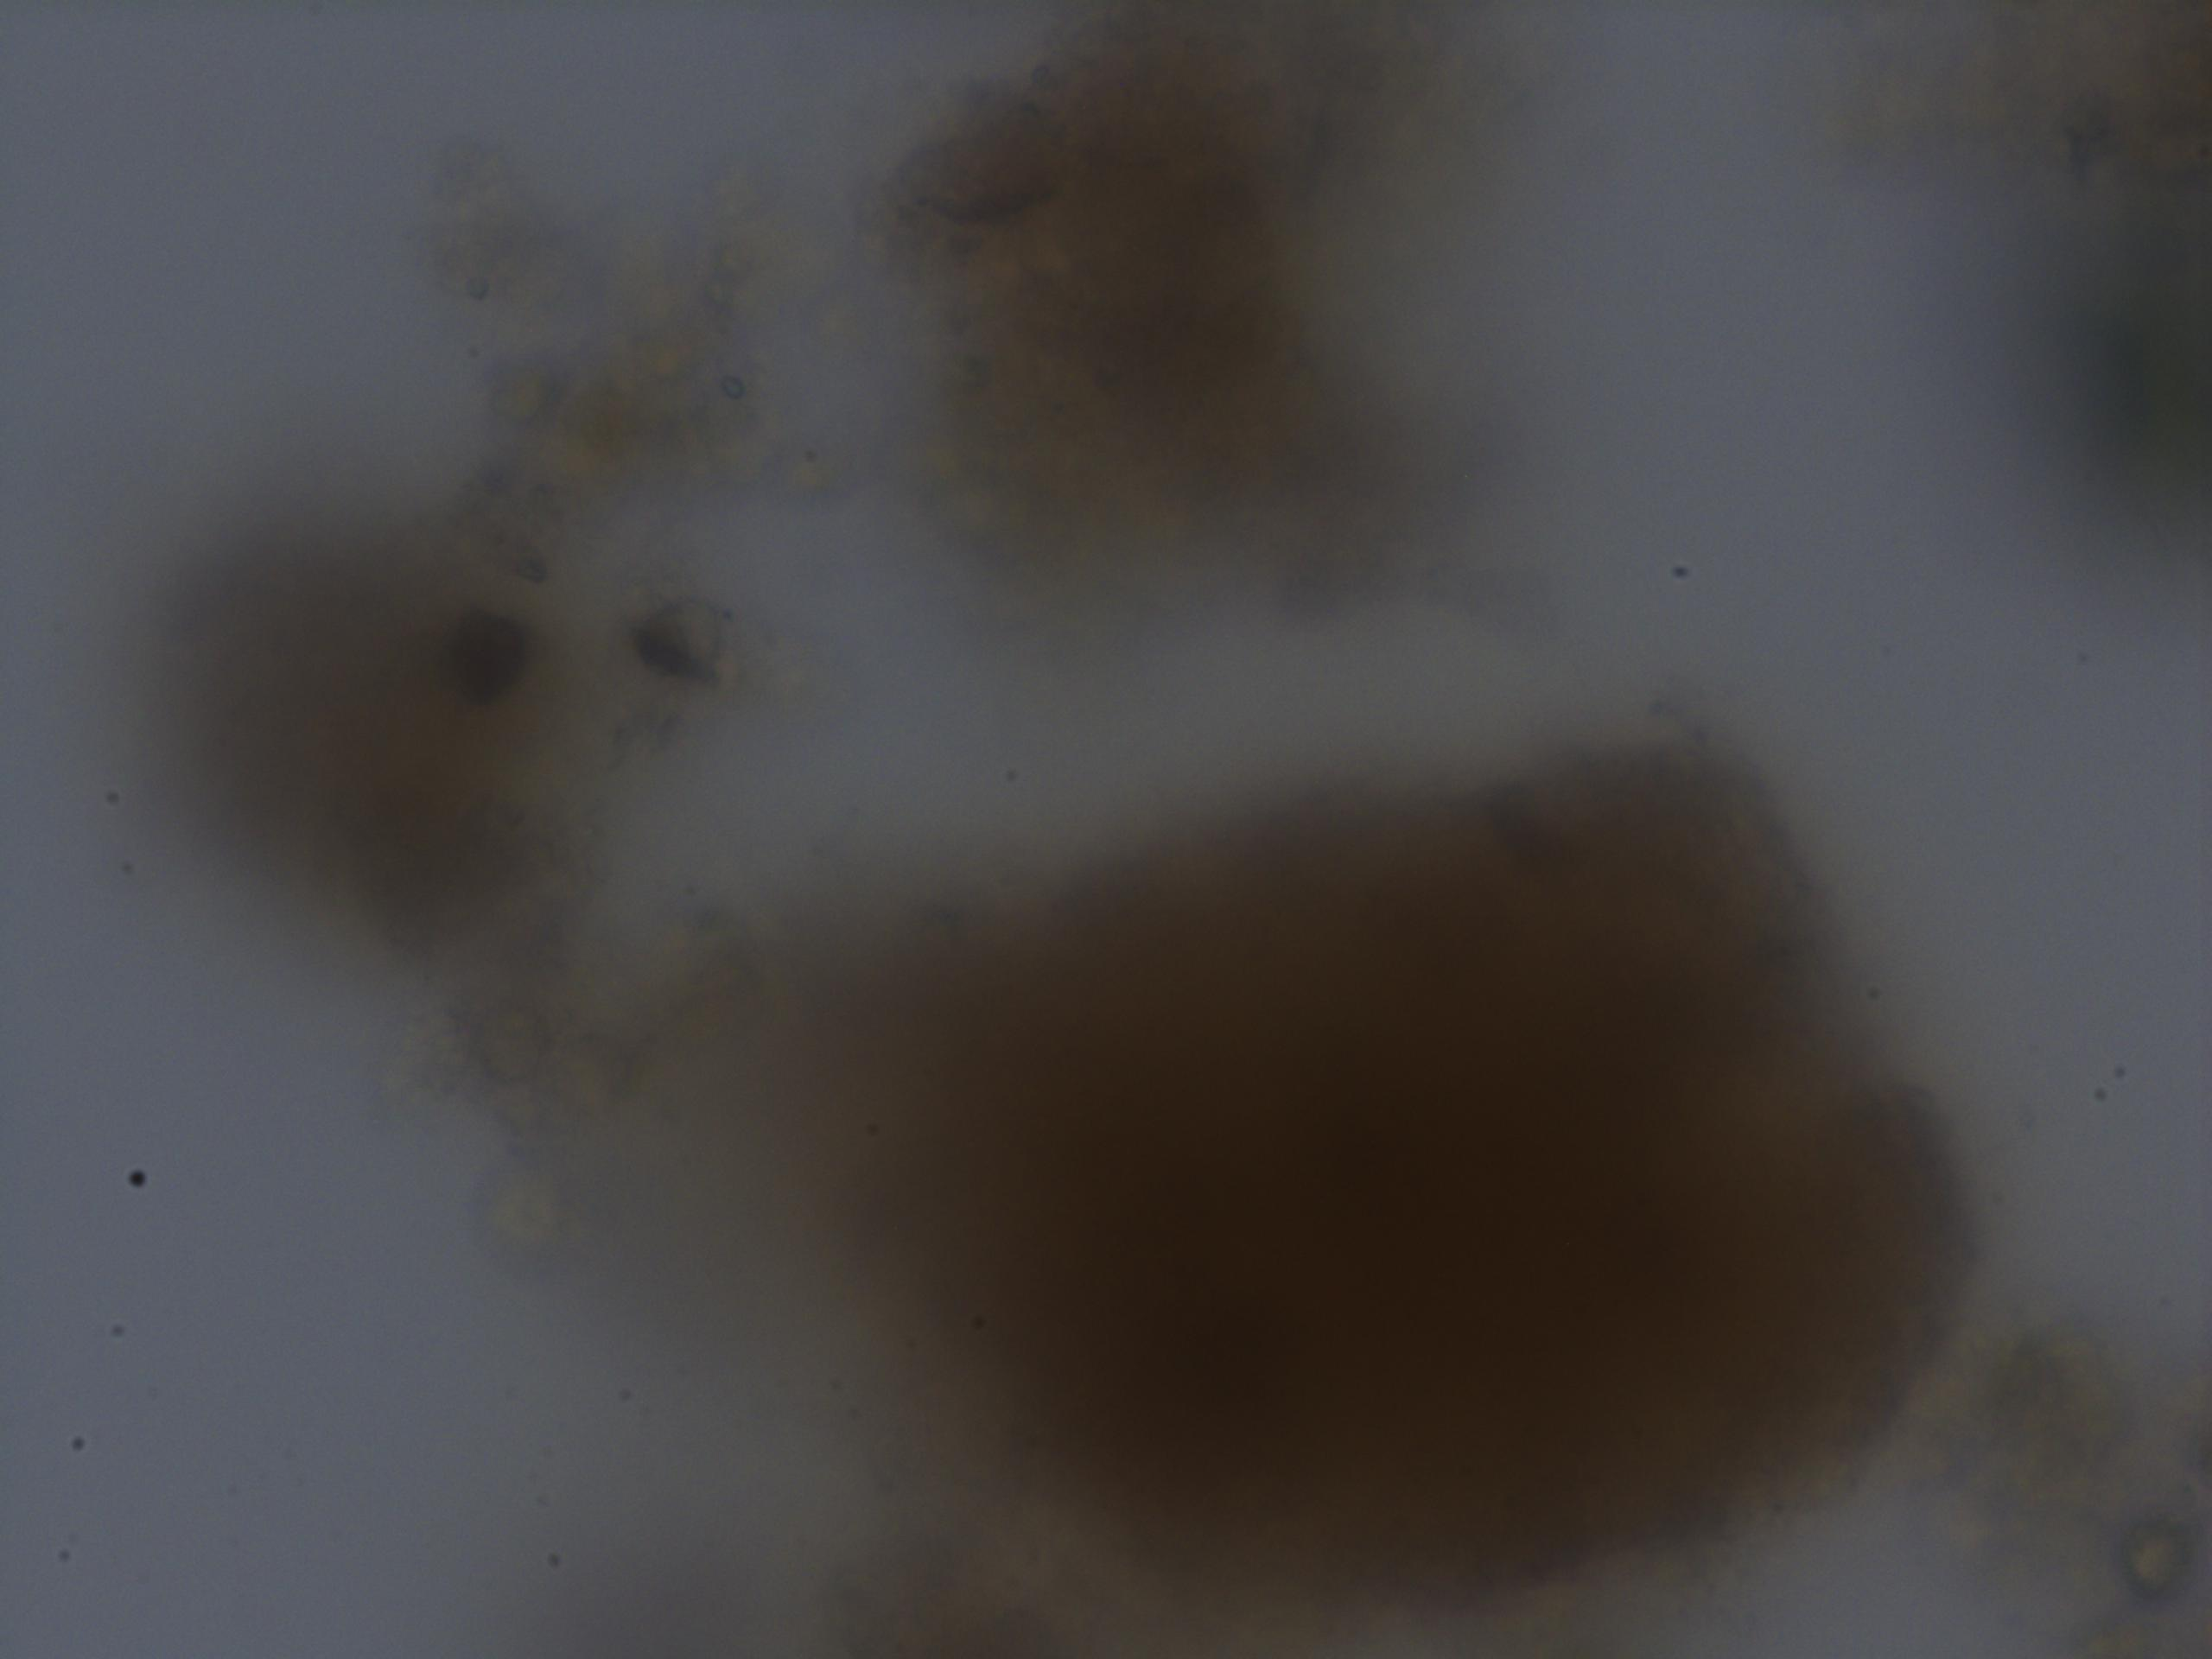spherical_floc: (822, 708, 1993, 1619)
